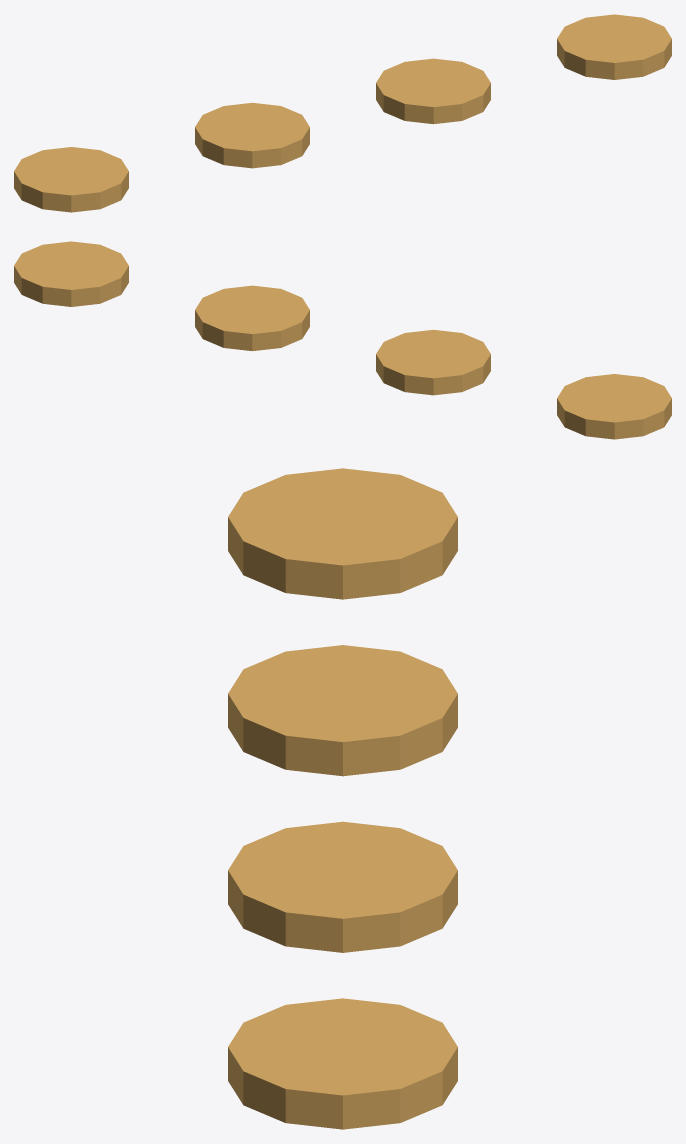
File: 67_L97_Thermal_Inspection_Pads.fbx
3 views of the same model, one above another, from view 1: azimuth 30°, elevation 25°; view 2: azimuth 150°, elevation 25°; view 3: azimuth 270°, elevation 25° (orthographic). The views are drawn at different scales.
Parts seen in each view (by area): view 1: Heat_via_1, Heat_via_2, Heat_via_0, Heat_via_3; view 2: Heat_via_1, Heat_via_2, Heat_via_0, Heat_via_3; view 3: Heat_via_0, Heat_via_1, Heat_via_2, Heat_via_3.
Part boxes in pixels (x1,y1,x2,y2): Heat_via_1: [195, 102, 309, 168]; Heat_via_2: [376, 58, 490, 124]; Heat_via_0: [14, 147, 128, 212]; Heat_via_3: [557, 14, 671, 79]; Heat_via_1: [376, 329, 490, 395]; Heat_via_2: [195, 285, 309, 351]; Heat_via_0: [557, 374, 671, 439]; Heat_via_3: [14, 241, 128, 306]; Heat_via_0: [228, 468, 457, 599]; Heat_via_1: [228, 645, 457, 776]; Heat_via_2: [228, 821, 457, 952]; Heat_via_3: [228, 998, 457, 1129].
Bounding box in the file's own units: 0.0071 × 0.00018 × 0.0011.
